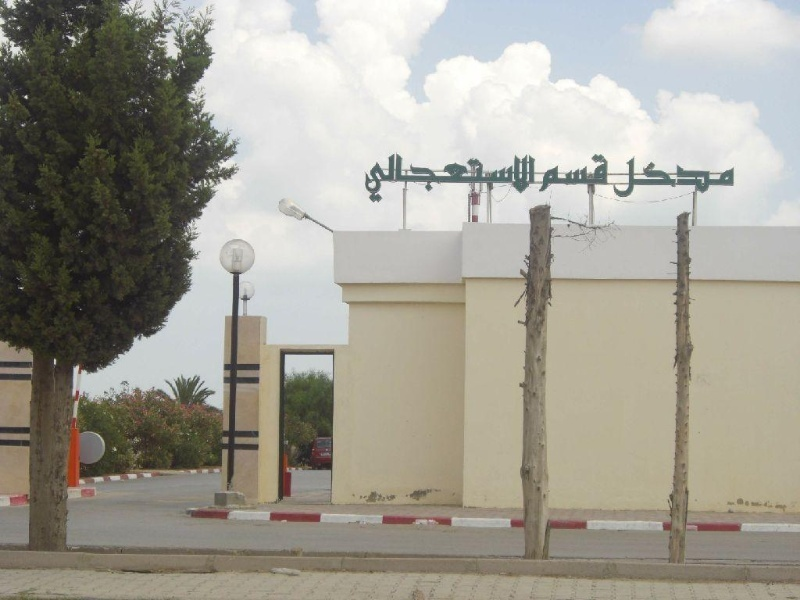text: (369, 152, 384, 202), (385, 152, 400, 202), (401, 152, 416, 202), (417, 152, 432, 202), (433, 152, 448, 202), (449, 152, 464, 202), (465, 152, 480, 202), (481, 152, 496, 202), (497, 152, 512, 202), (513, 152, 528, 202), (625, 157, 640, 201), (641, 157, 656, 201), (657, 157, 672, 201), (673, 157, 688, 201), (689, 157, 704, 201), (705, 157, 720, 201), (721, 157, 735, 201), (545, 154, 560, 194), (561, 154, 576, 194), (577, 154, 592, 194), (593, 154, 608, 194), (357, 152, 368, 202), (612, 157, 624, 201), (529, 152, 536, 202), (537, 154, 544, 194), (609, 154, 610, 194)
